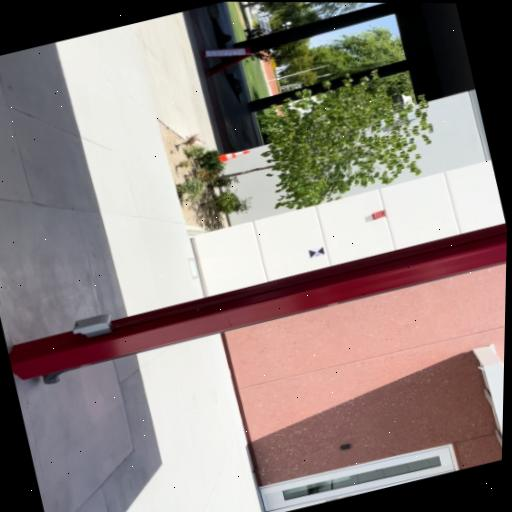target6: (308, 246, 325, 259)
